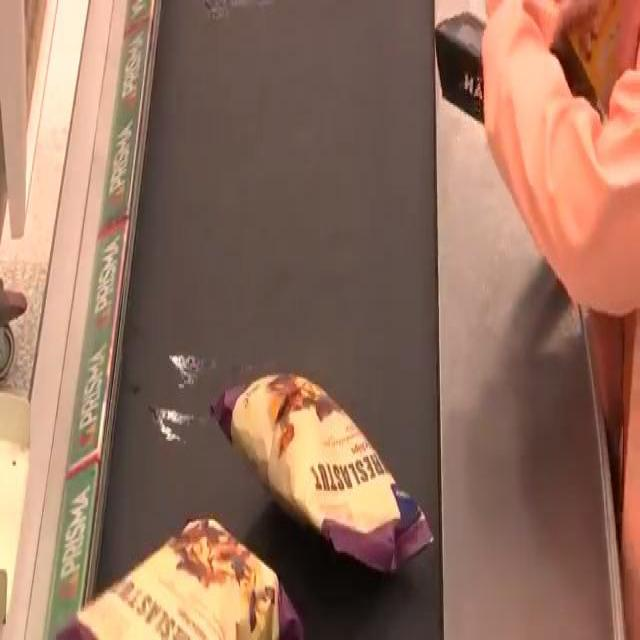food-box: (186, 318, 450, 576), (78, 544, 290, 640)
